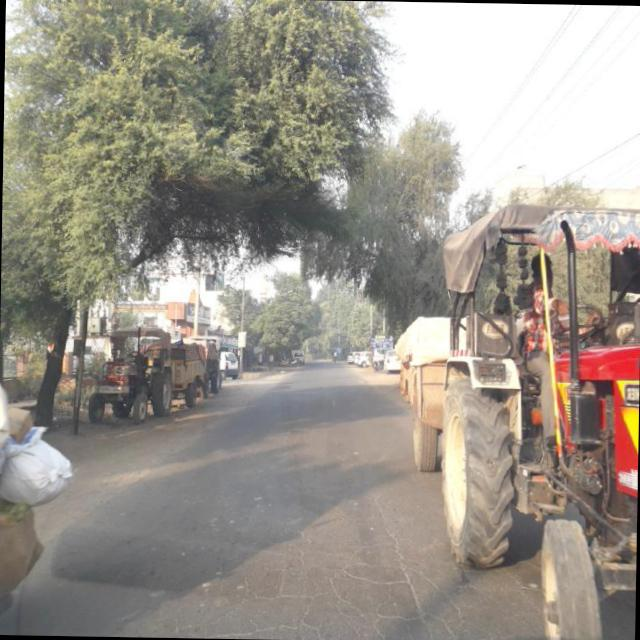crack: (126, 486, 442, 640)
